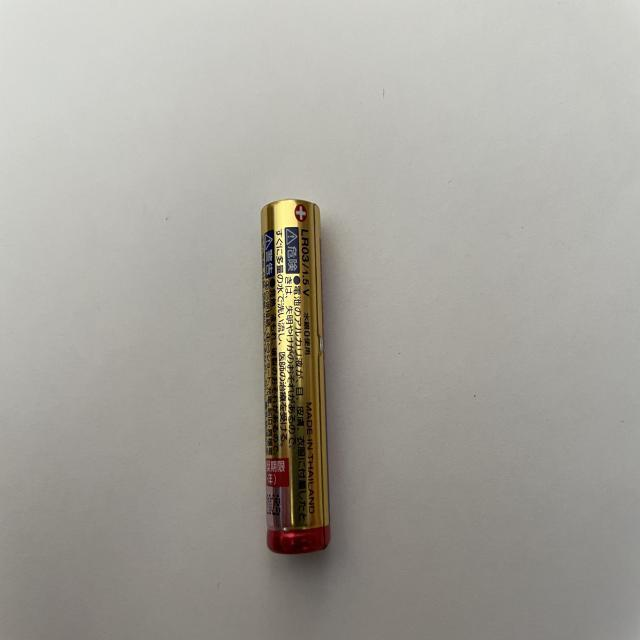AAA: (257, 194, 334, 557)
